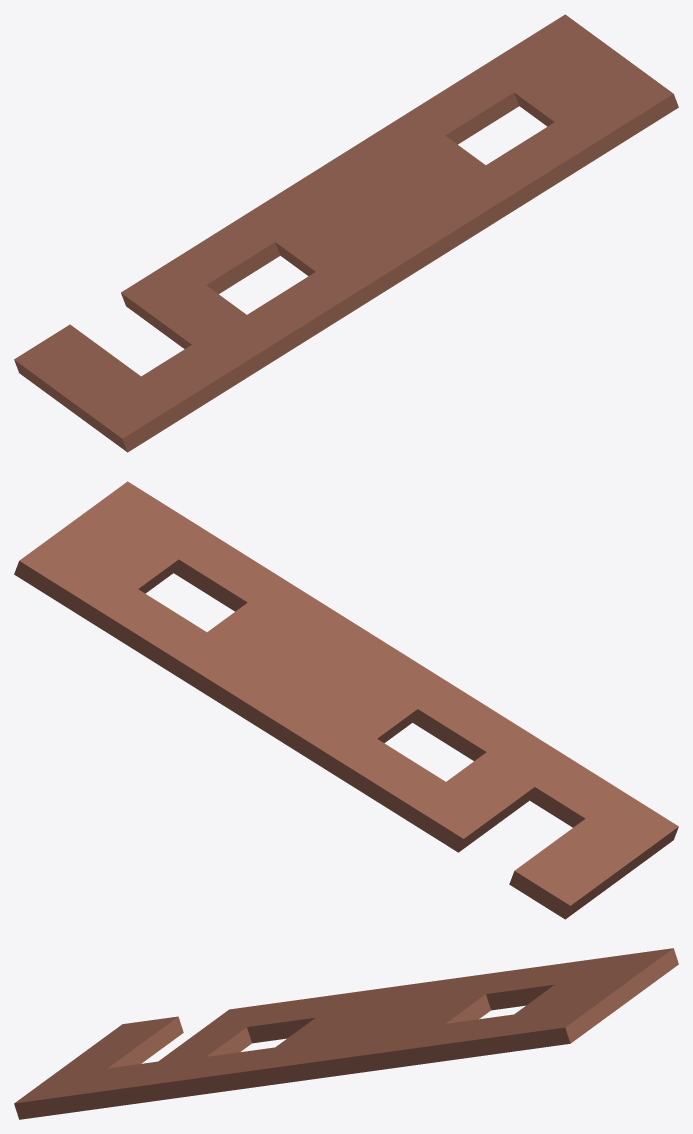
The model's file is SARM_SAR_Building_URB_003_Wall_N_00.glb.
3 views of the same model, one above another, from view 1: azimuth 30°, elevation 25°; view 2: azimuth 150°, elevation 25°; view 3: azimuth 330°, elevation 25° (orthographic).
Visible parts, largest first — view 1: SAR_Building_URB_003_Wall_N_00.001; view 2: SAR_Building_URB_003_Wall_N_00.001; view 3: SAR_Building_URB_003_Wall_N_00.001.
Part boxes in pixels (bbox=[...]): SAR_Building_URB_003_Wall_N_00.001: bbox=[14, 14, 678, 452]; SAR_Building_URB_003_Wall_N_00.001: bbox=[14, 481, 678, 919]; SAR_Building_URB_003_Wall_N_00.001: bbox=[14, 948, 678, 1119].
Size of the model in its own units: 9.48 by 3.67 by 3.2.
